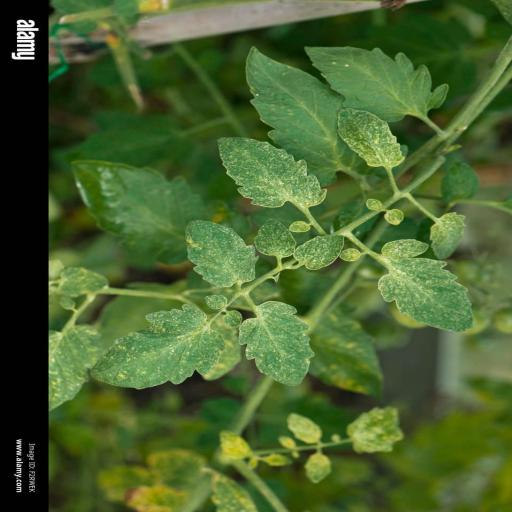Spider Mites: (86, 304, 242, 392), (372, 238, 476, 332), (212, 136, 328, 208), (238, 300, 316, 388), (180, 218, 260, 290), (332, 106, 408, 172), (292, 232, 346, 270), (254, 218, 296, 258)
